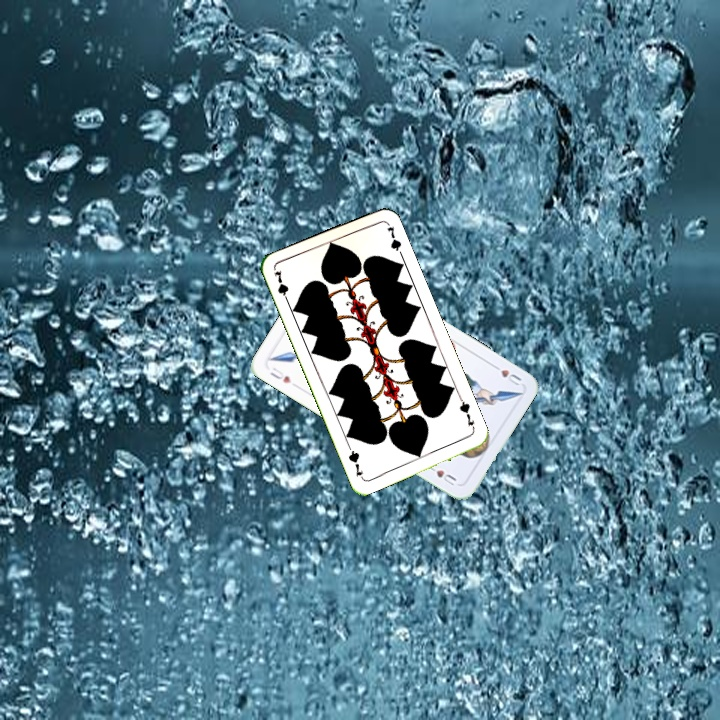G7: (270, 266, 292, 306), (455, 394, 477, 433)
HU: (488, 360, 524, 388), (266, 363, 294, 386)
